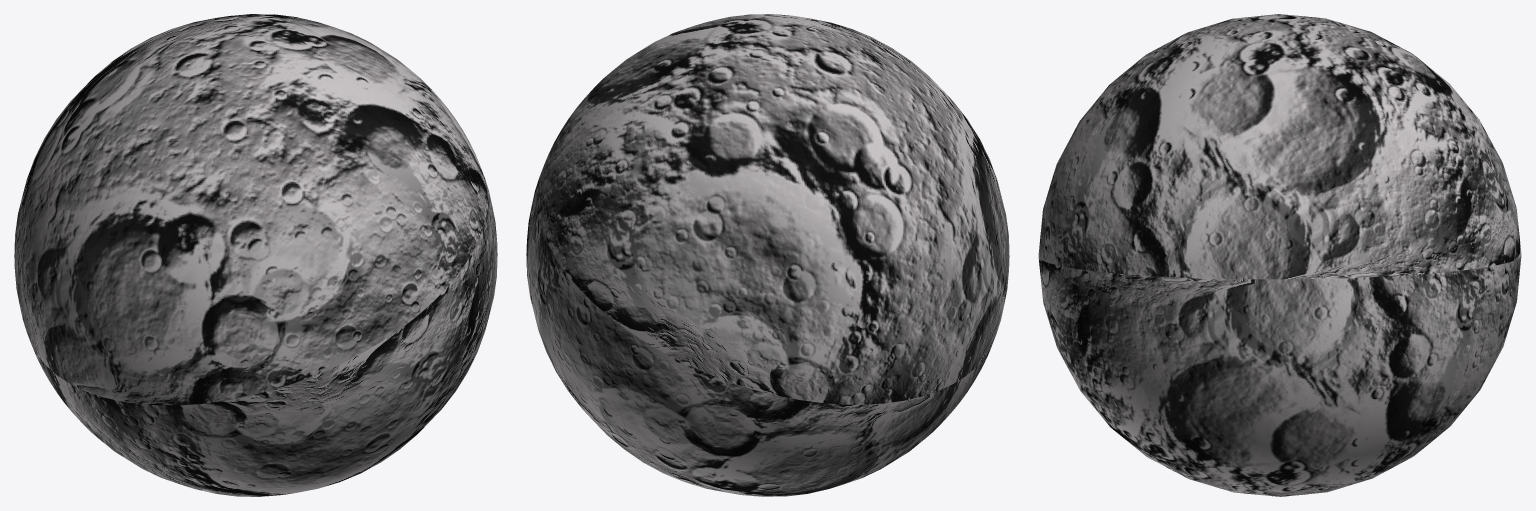
The model's file is moon.fbx.
3 views of the same model, side by side, from view 1: azimuth 30°, elevation 25°; view 2: azimuth 150°, elevation 25°; view 3: azimuth 270°, elevation 25° (orthographic).
Visible parts, largest first — view 1: Sphere; view 2: Sphere; view 3: Sphere.
Part boxes in pixels (<box>): Sphere: <box>14,14,497,496</box>; Sphere: <box>526,14,1009,496</box>; Sphere: <box>1038,14,1521,496</box>.
Size of the model in its own units: 2 by 2 by 2.
